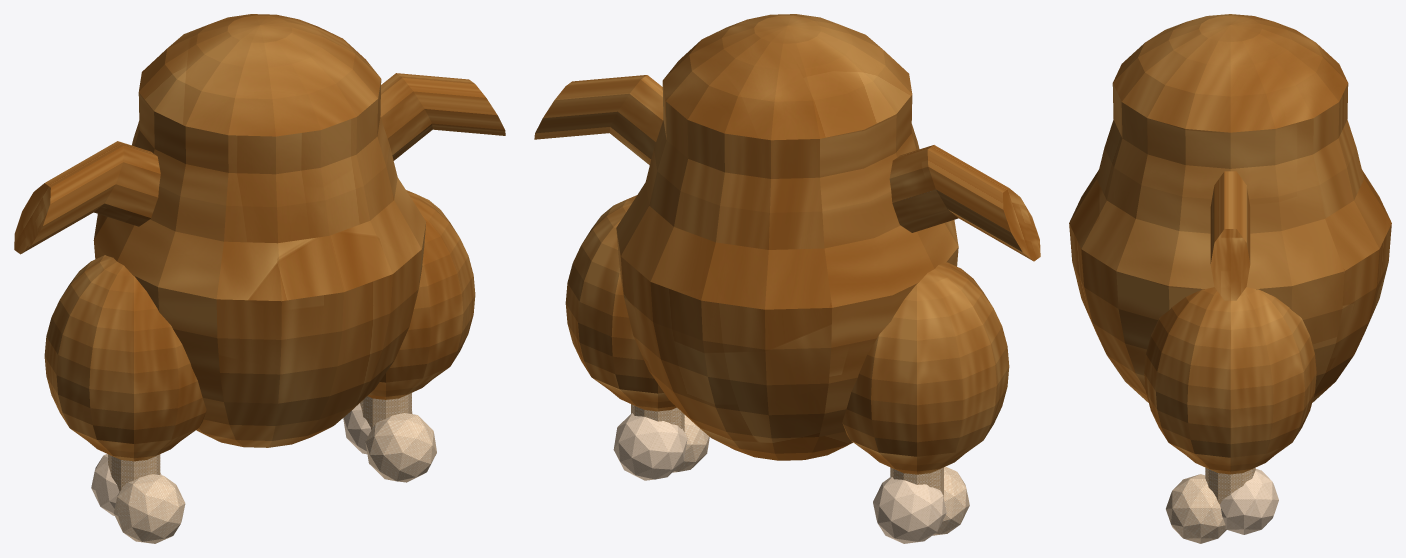
File: Pollo2.fbx
The picture shows the model from 3 angles, left to right: view 1: azimuth 30°, elevation 25°; view 2: azimuth 150°, elevation 25°; view 3: azimuth 270°, elevation 25°; orthographic projection. The views are drawn at different scales.
Parts seen in each view (by area): view 1: Cuerpo, Pollo, Alas, Hueso1, Hueso, Hueso2; view 2: Cuerpo, Pollo, Alas, Hueso2, Hueso1, Hueso; view 3: Cuerpo, Pollo, Alas, Hueso1, Hueso2, Hueso.
Boxes of the visible parts, x1,y1,x2,y2 form: Cuerpo: [93, 14, 425, 447]; Pollo: [44, 190, 475, 461]; Alas: [14, 73, 505, 254]; Hueso1: [113, 413, 436, 543]; Hueso: [108, 393, 411, 491]; Hueso2: [91, 403, 412, 515]; Cuerpo: [616, 14, 958, 460]; Pollo: [565, 195, 1009, 474]; Alas: [534, 75, 1040, 261]; Hueso2: [613, 413, 946, 543]; Hueso1: [672, 415, 969, 535]; Hueso: [631, 404, 943, 496]; Cuerpo: [1069, 14, 1391, 402]; Pollo: [1144, 287, 1316, 474]; Alas: [1210, 171, 1250, 300]; Hueso1: [1166, 474, 1226, 543]; Hueso2: [1220, 469, 1278, 534]; Hueso: [1205, 467, 1255, 504].
Bounding box in the file's own units: 334 × 311 × 200.
6 materials, 6 textured.
